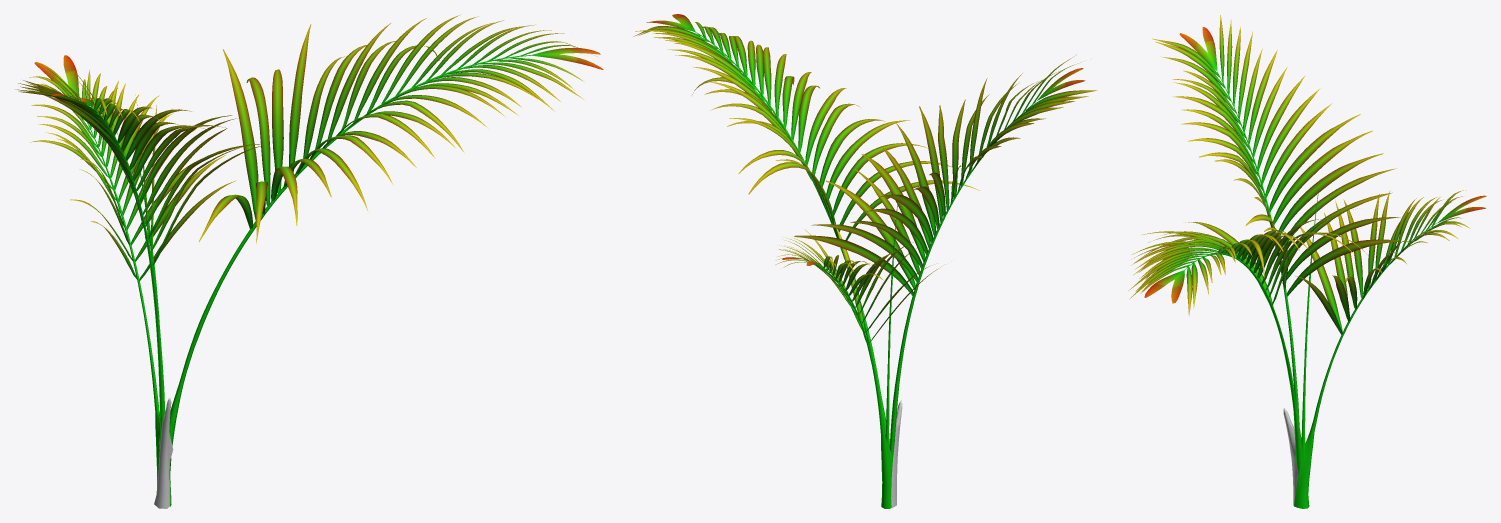
The model's file is Alexandra Palm_LOD1_Var1_ukgkcilia.fbx.
3 views of the same model, side by side, from view 1: azimuth 30°, elevation 25°; view 2: azimuth 150°, elevation 25°; view 3: azimuth 270°, elevation 25° (orthographic). The views are drawn at different scales.
Parts seen in each view (by area): view 1: _ohfq_Var1_LOD1; view 2: _ohfq_Var1_LOD1; view 3: _ohfq_Var1_LOD1.
Part boxes in pixels (bbox=[...]): _ohfq_Var1_LOD1: bbox=[15, 15, 603, 508]; _ohfq_Var1_LOD1: bbox=[633, 14, 1097, 508]; _ohfq_Var1_LOD1: bbox=[1128, 15, 1486, 508].
Bounding box in the file's own units: 75.5 × 63.7 × 50.27.
